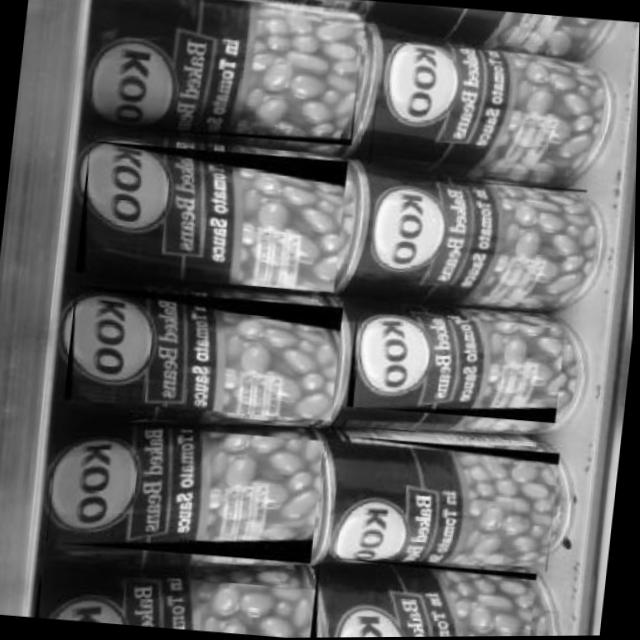Beans: (74, 139, 350, 295), (86, 0, 367, 149), (46, 418, 326, 567), (64, 283, 345, 424), (368, 41, 610, 187), (328, 435, 563, 575), (367, 173, 589, 310), (347, 310, 568, 427), (37, 565, 339, 640), (312, 556, 539, 638)
